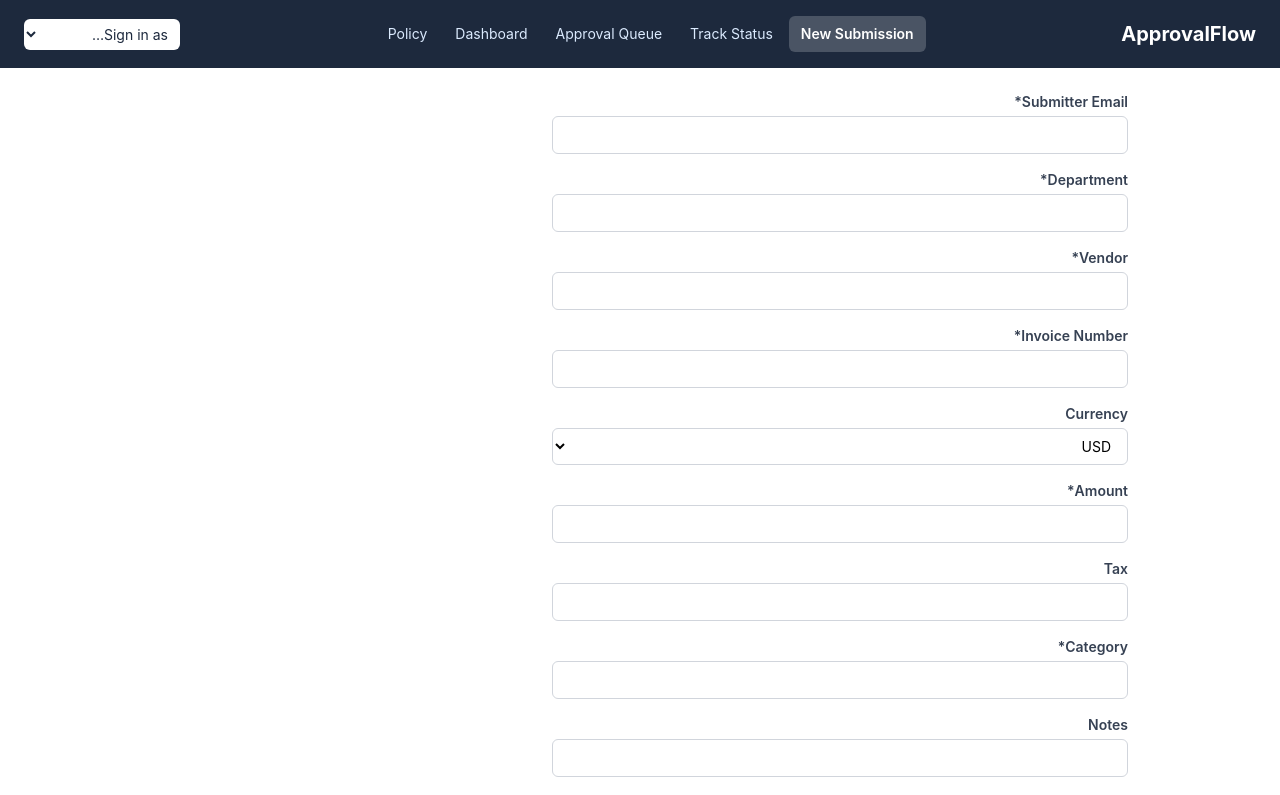
Scenario: App › switches to Track Status tab
Click the button "Track Status" at x=732, y=34, box x1=678 y1=16 x2=785 y2=52
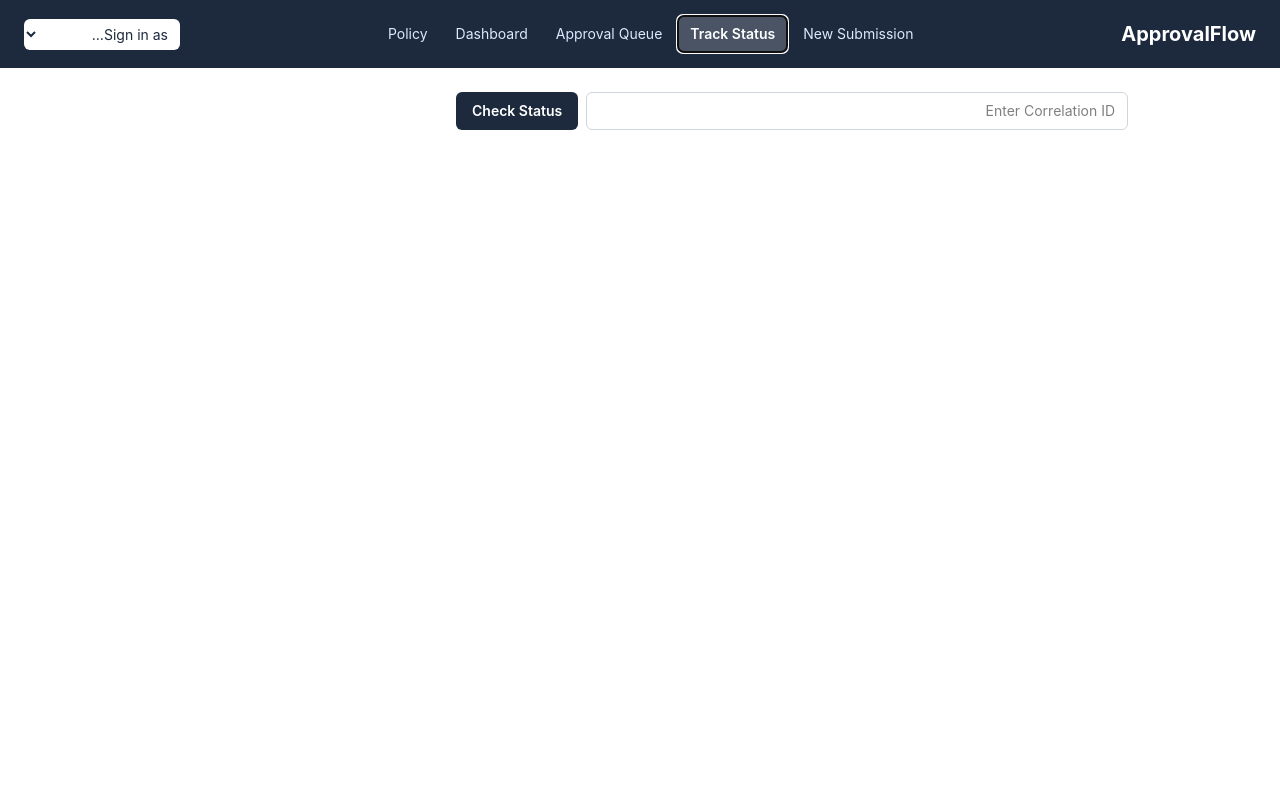
Now the field with placeholder "Enter Correlation ID" is shown, box x1=586 y1=92 x2=1128 y2=130
Now the button "Check Status" is shown, box x1=456 y1=92 x2=578 y2=130
